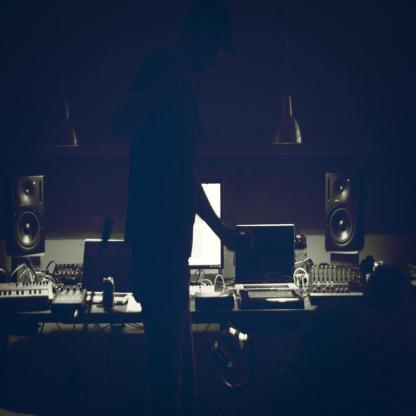board: (233, 213, 314, 316), (103, 277, 114, 309)
